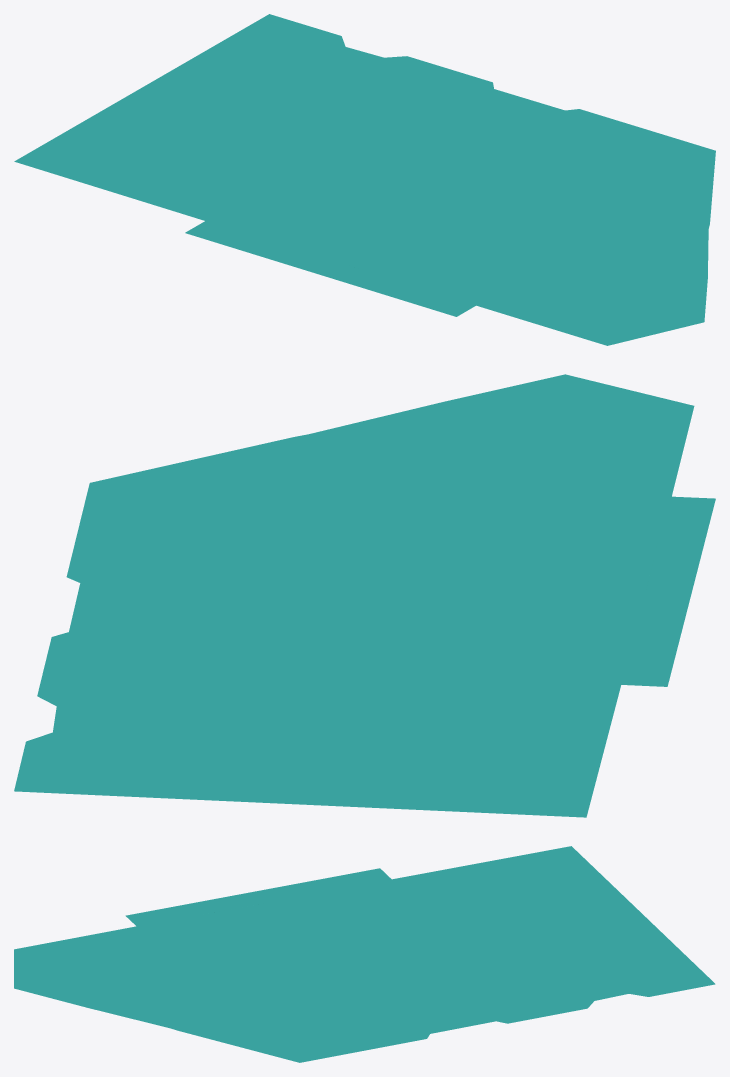
The model's file is Cup_updated_v3.FBX.
3 views of the same model, one above another, from view 1: azimuth 30°, elevation 25°; view 2: azimuth 150°, elevation 25°; view 3: azimuth 270°, elevation 25° (orthographic). The views are drawn at different scales.
Parts seen in each view (by area): view 1: Plane001; view 2: Plane001; view 3: Plane001.
Part boxes in pixels (x1,y1,x2,y2): Plane001: [14, 14, 715, 345]; Plane001: [14, 374, 715, 817]; Plane001: [14, 846, 715, 1062].
Size of the model in its own units: 102 by 0.000407 by 139.
